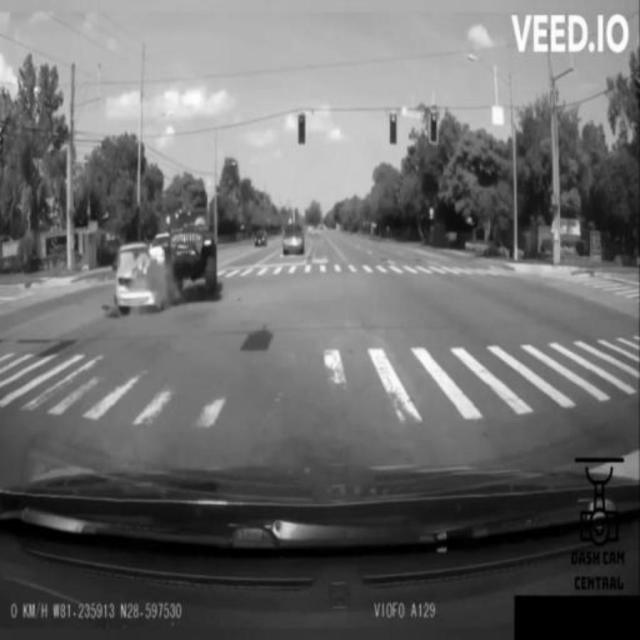accident: (117, 209, 220, 309)
vehicle: (284, 224, 304, 258)
